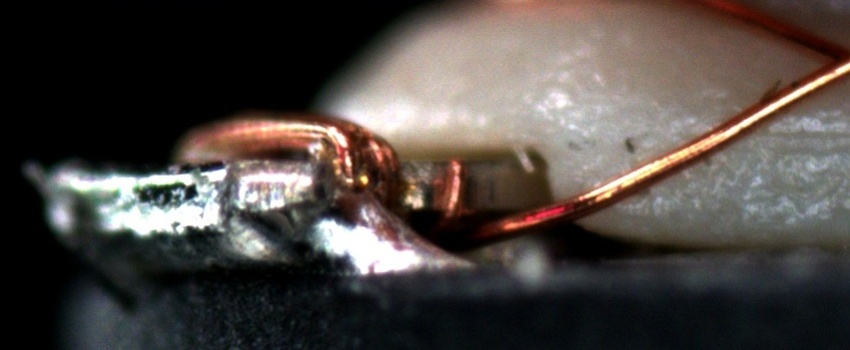CL: (801, 28, 849, 90)
DL: (681, 107, 849, 160)
TE: (173, 110, 466, 225)
